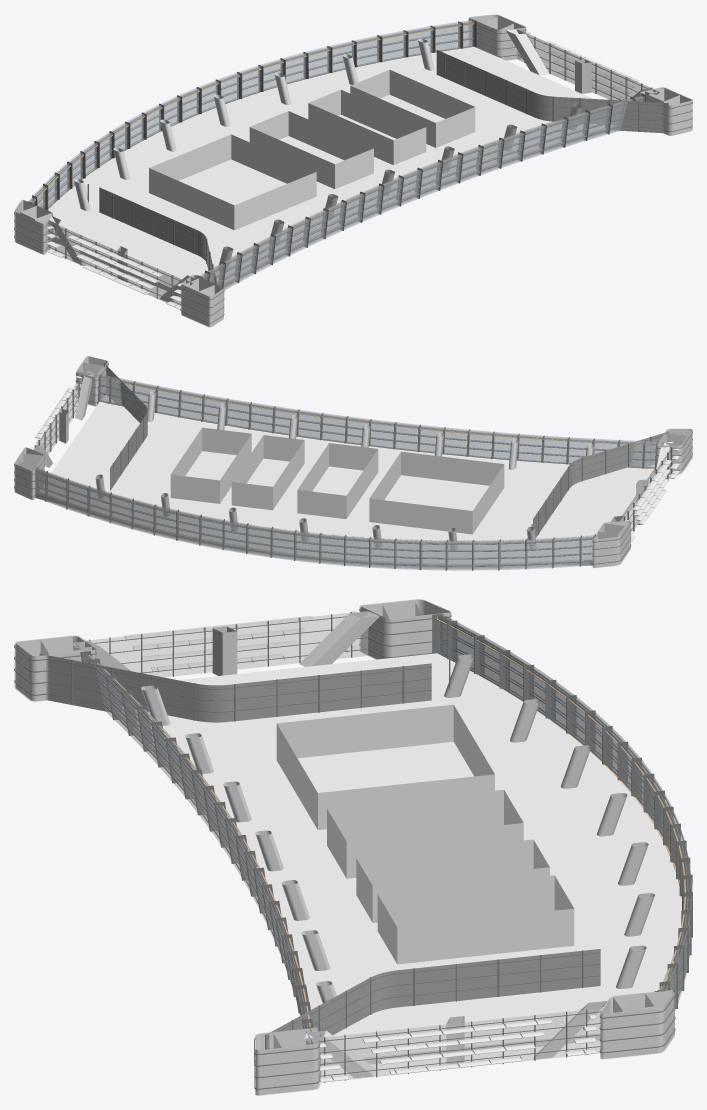
3 renders of one model, top to bottom at view 1: azimuth 30°, elevation 25°; view 2: azimuth 150°, elevation 25°; view 3: azimuth 270°, elevation 25°, orthographic. The views are drawn at different scales.
Visible parts, largest first — view 1: floor.026; view 2: floor.026; view 3: floor.026.
Boxes of the visible parts, left/top/right/bottom form: floor.026: left=14, top=14, right=692, bottom=327; floor.026: left=14, top=356, right=692, bottom=570; floor.026: left=14, top=599, right=692, bottom=1095.
Bounding box in the file's own units: 81.94 × 3.81 × 52.01.
Materials: 14 (1 with a texture image).
